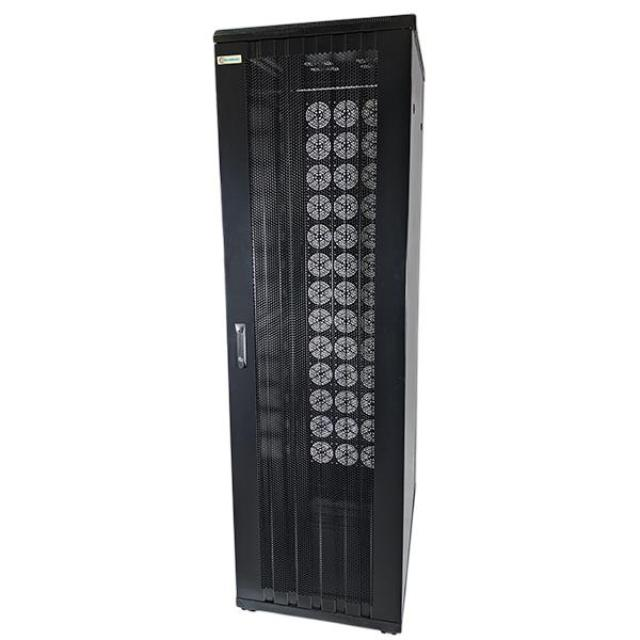Server: (210, 1, 440, 640)
